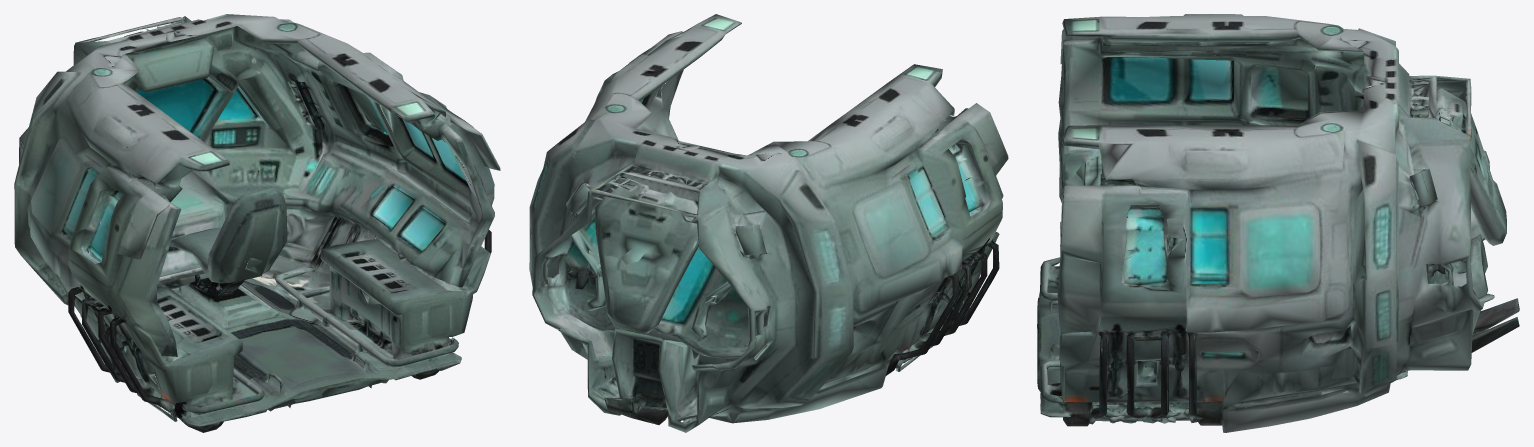
File: corvette_bridge.repacked.glb
3 views of the same model, side by side, from view 1: azimuth 30°, elevation 25°; view 2: azimuth 150°, elevation 25°; view 3: azimuth 270°, elevation 25° (orthographic). The views are drawn at different scales.
Parts seen in each view (by area): view 1: Mesh1.0; view 2: Mesh1.0; view 3: Mesh1.0.
Part boxes in pixels (<box>): Mesh1.0: <box>14,14,500,432</box>; Mesh1.0: <box>529,14,1008,432</box>; Mesh1.0: <box>1037,14,1519,432</box>.
Bounding box in the file's own units: 1.91 × 1.25 × 1.91.
1 material, 1 textured.
